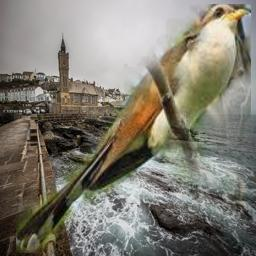Cuckoo: (16, 4, 251, 253)
